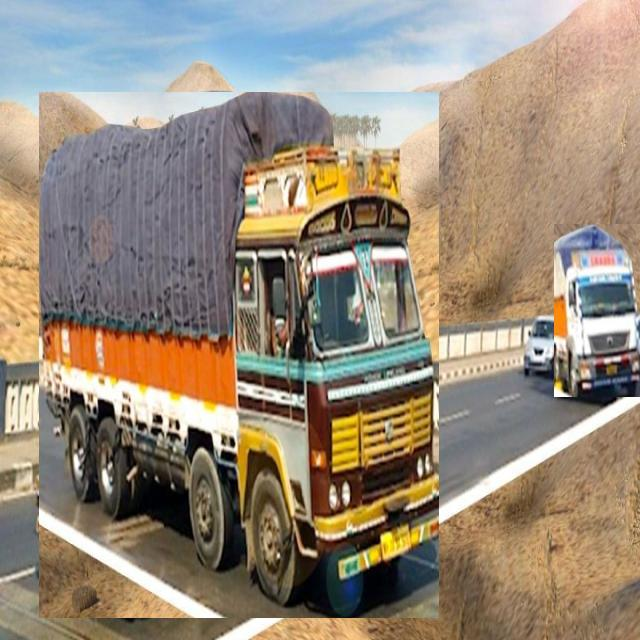truck: (39, 92, 439, 618), (554, 225, 640, 397)
